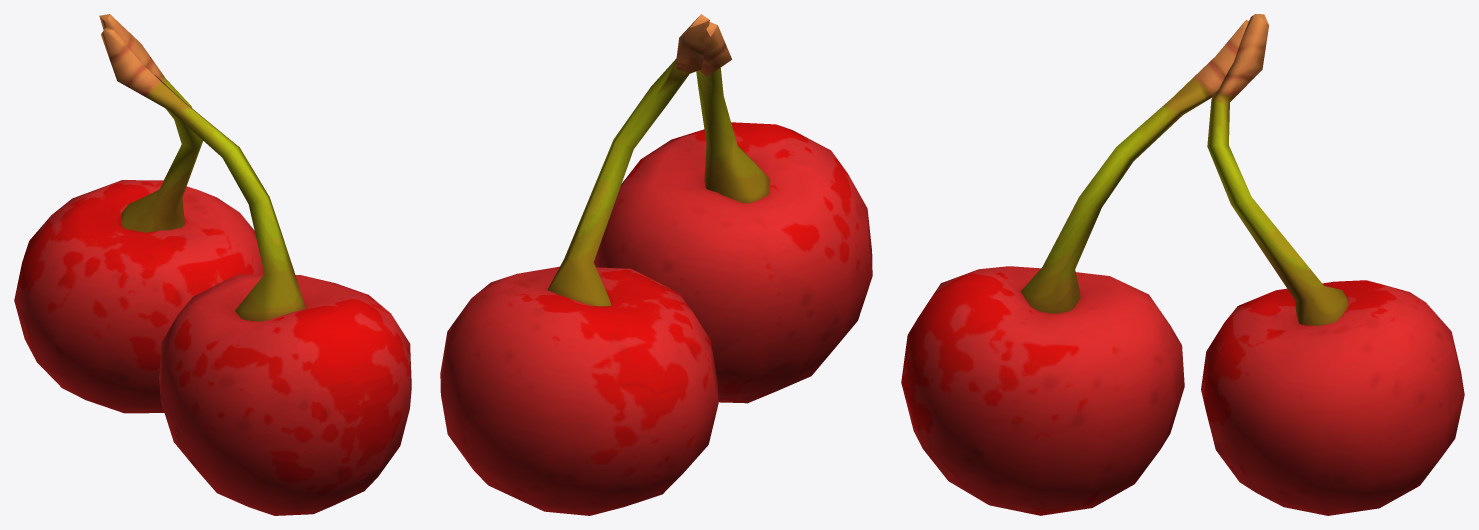
Rendered from SM_CherryDoubleA.fbx.
3 renders of one model, left to right at view 1: azimuth 30°, elevation 25°; view 2: azimuth 150°, elevation 25°; view 3: azimuth 270°, elevation 25°, orthographic. The views are drawn at different scales.
Parts seen in each view (by area): view 1: SM_CherryDoubleA; view 2: SM_CherryDoubleA; view 3: SM_CherryDoubleA.
Part boxes in pixels (x1,y1,x2,y2): SM_CherryDoubleA: (14,14,411,515); SM_CherryDoubleA: (440,14,872,515); SM_CherryDoubleA: (901,14,1464,515).
Bounding box in the file's own units: 4.79 × 8.8 × 9.95.
